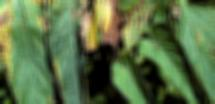Tomato leaf bacterial spot: (0, 0, 55, 104), (46, 0, 94, 104), (172, 0, 215, 104), (122, 0, 160, 57)
